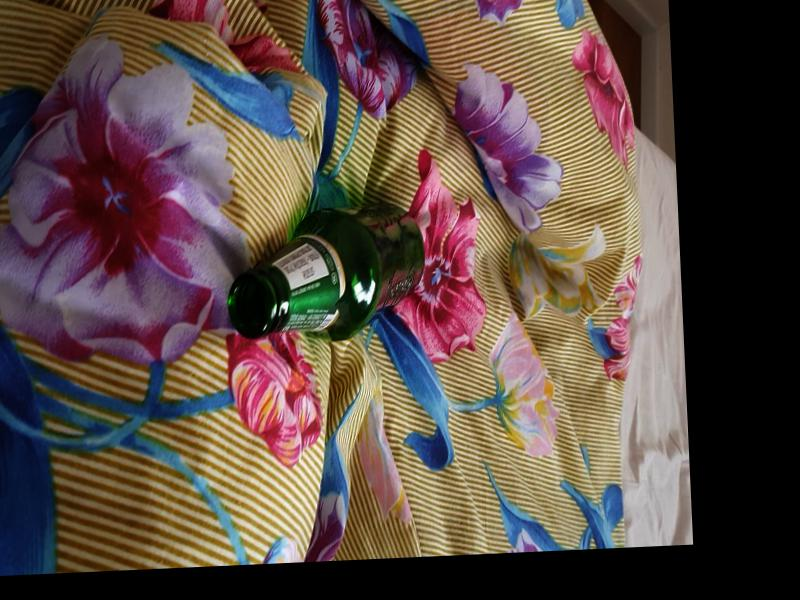Beer: (224, 208, 427, 345)
